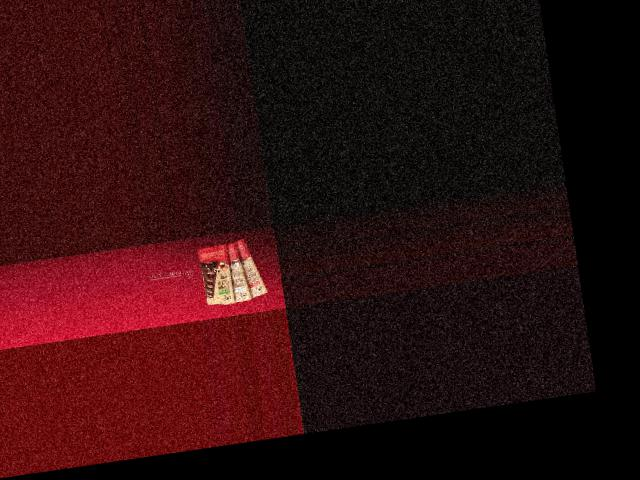chocolate: (228, 233, 268, 303)
